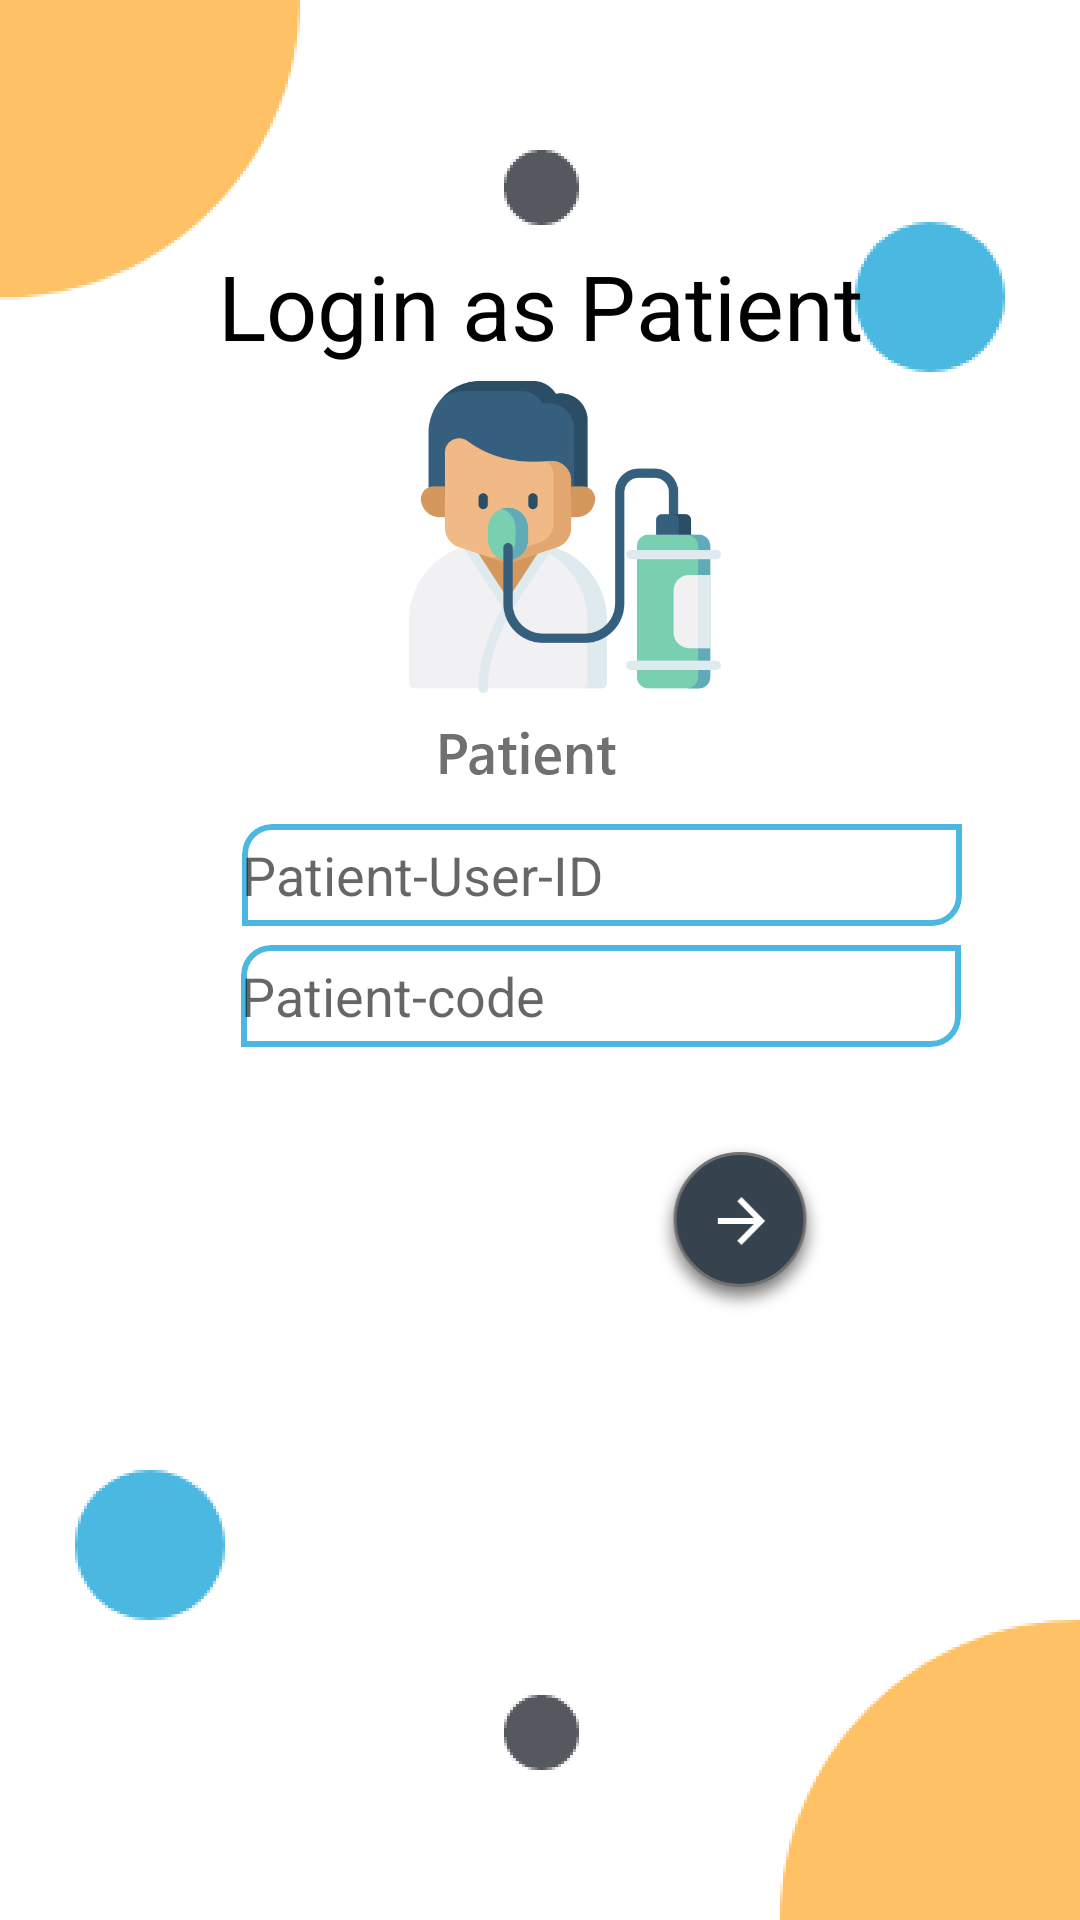

Screen size 1080×1920. Icon name, then its center in pixels as [x,y]:
signbt: [740,1227]
